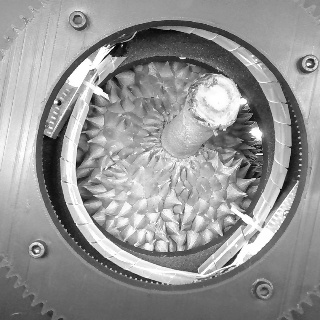base: (156, 113, 206, 163)
end: (192, 73, 242, 127)
